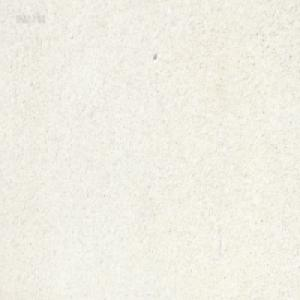Wrench: (196, 0, 203, 5)
